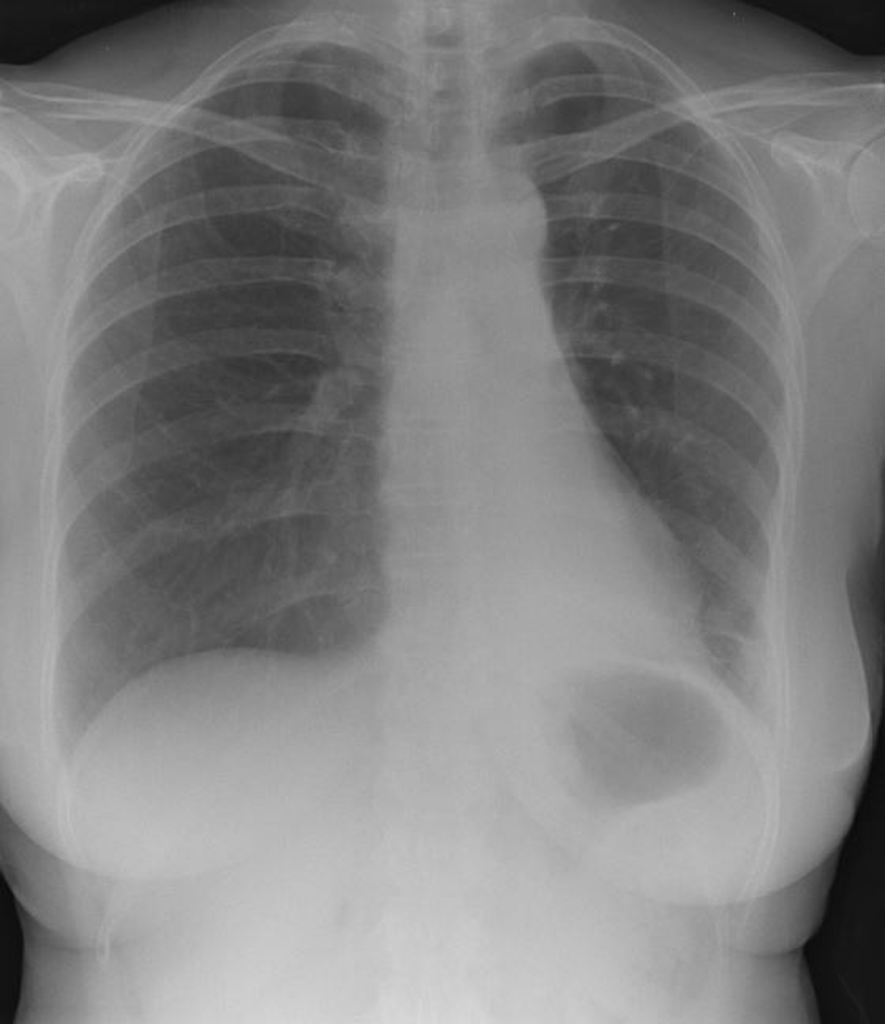cancer: (98, 199, 387, 689), (544, 217, 796, 548)
